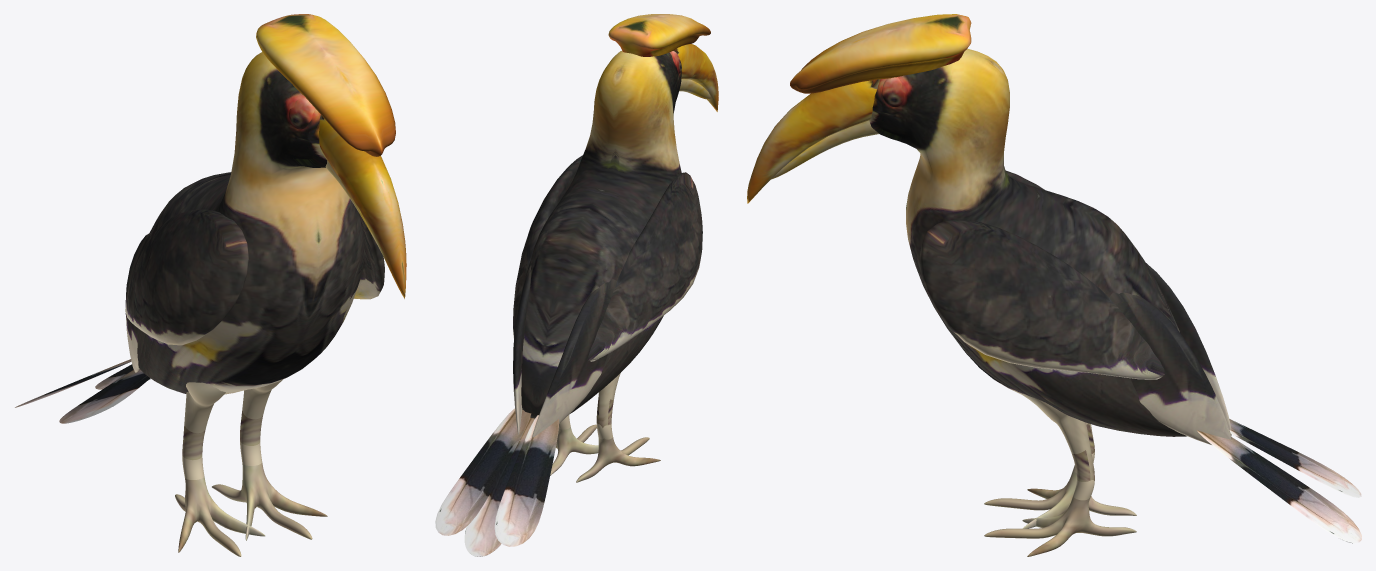
Rendered from 10_Buceros bicornis (นกกาฮัง).fbx.
The picture shows the model from 3 angles, left to right: view 1: azimuth 30°, elevation 25°; view 2: azimuth 150°, elevation 25°; view 3: azimuth 270°, elevation 25°; orthographic projection. The views are drawn at different scales.
Parts seen in each view (by area): view 1: Cube, Cube.002, Cube.008, Cube.003, Cube.006, Plane, Cube.001, Cube.007; view 2: Cube, Cube.002, Cube.001, Plane.001, Plane.002, Cube.003, Cube.008, Plane, Cube.006, Cube.005; view 3: Cube, Cube.002, Cube.001, Cube.008, Cube.003, Cube.006, Plane.002, Plane.001, Cube.005.
Boxes of the visible parts, box(x1,y1,x2,y2) form: Cube: box(137, 52, 365, 394); Cube.002: box(125, 209, 384, 345); Cube.008: box(256, 14, 395, 156); Cube.003: box(175, 379, 327, 556); Cube.006: box(319, 115, 406, 298); Plane: box(59, 369, 150, 423); Cube.001: box(125, 233, 151, 372); Cube.007: box(289, 97, 314, 129); Cube: box(521, 51, 681, 418); Cube.002: box(513, 155, 702, 361); Cube.001: box(513, 259, 616, 440); Plane.001: box(494, 415, 559, 546); Plane.002: box(435, 408, 531, 535); Cube.003: box(550, 373, 660, 482); Cube.008: box(608, 14, 710, 56); Plane: box(464, 417, 534, 556); Cube.006: box(673, 44, 718, 111); Cube.005: box(679, 79, 710, 99); Cube: box(869, 48, 1186, 436); Cube.002: box(919, 170, 1164, 379); Cube.001: box(1109, 263, 1231, 444); Cube.008: box(790, 14, 971, 93); Cube.003: box(984, 392, 1136, 556); Cube.006: box(747, 79, 880, 203); Plane.002: box(1197, 430, 1361, 543); Plane.001: box(1229, 419, 1361, 497); Cube.005: box(771, 120, 878, 179).
Size of the model in its own units: 175 by 467 by 501.
Materials: 2 (2 with a texture image).
